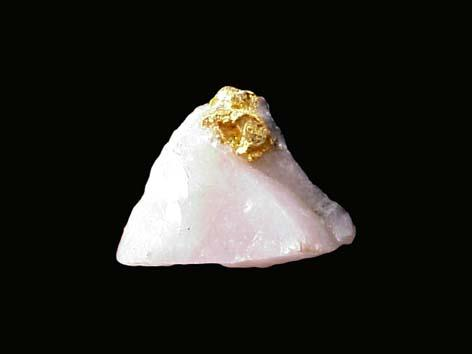gold: (202, 87, 277, 162)
